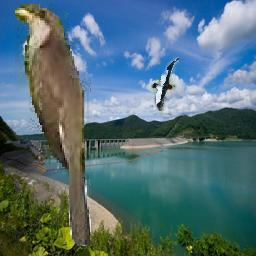Cuckoo: (13, 4, 91, 246)
Woodpecker: (151, 57, 179, 111)
